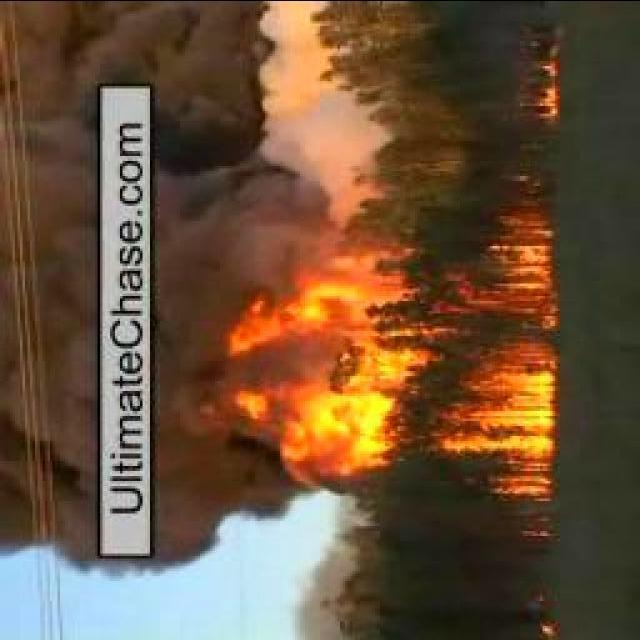Fire: (228, 190, 555, 491), (514, 36, 562, 126)
